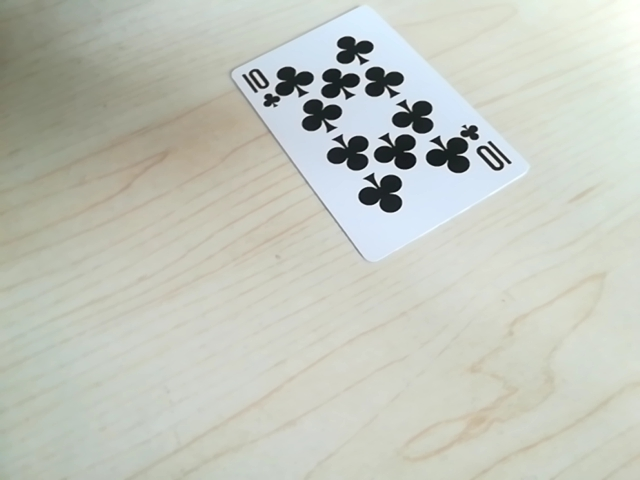mh 10: (460, 123, 514, 173), (237, 62, 284, 105)
